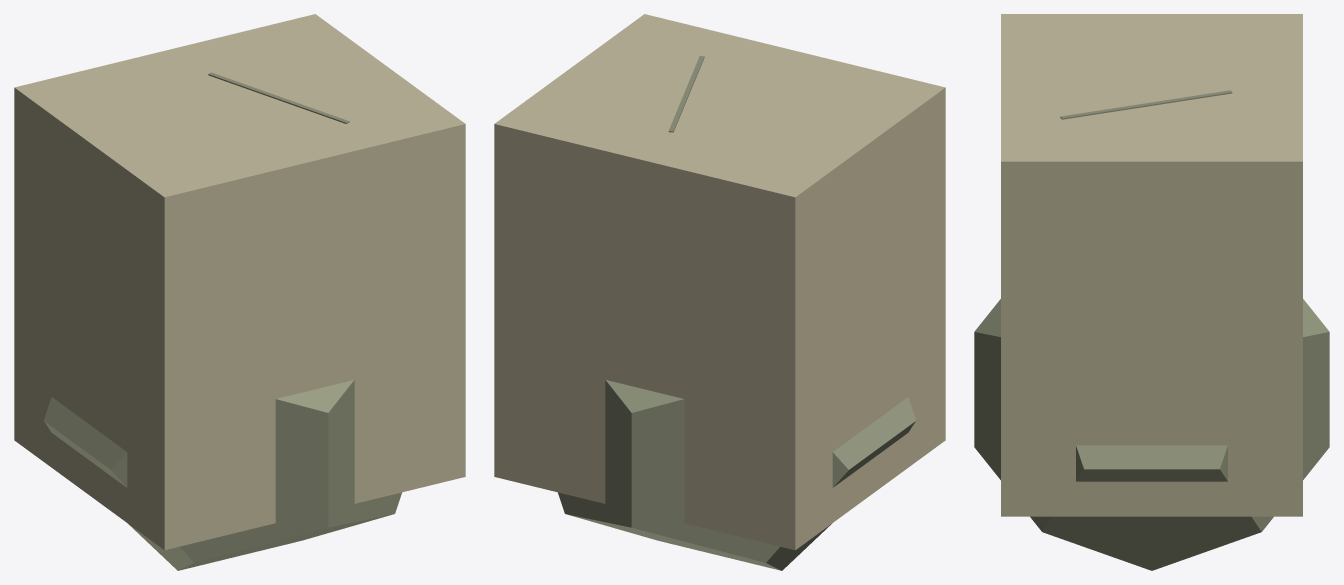
The model's file is terrain-stone-c1b99c.glb.
The picture shows the model from 3 angles, left to right: view 1: azimuth 30°, elevation 25°; view 2: azimuth 150°, elevation 25°; view 3: azimuth 270°, elevation 25°; orthographic projection.
Visible parts, largest first — view 1: terrain-stone-c1b99c; view 2: terrain-stone-c1b99c; view 3: terrain-stone-c1b99c.
Part boxes in pixels (x1,y1,x2,y2): terrain-stone-c1b99c: [14, 14, 465, 570]; terrain-stone-c1b99c: [494, 14, 945, 570]; terrain-stone-c1b99c: [974, 14, 1329, 570].
Size of the model in its own units: 1.35 by 1.79 by 1.27.
